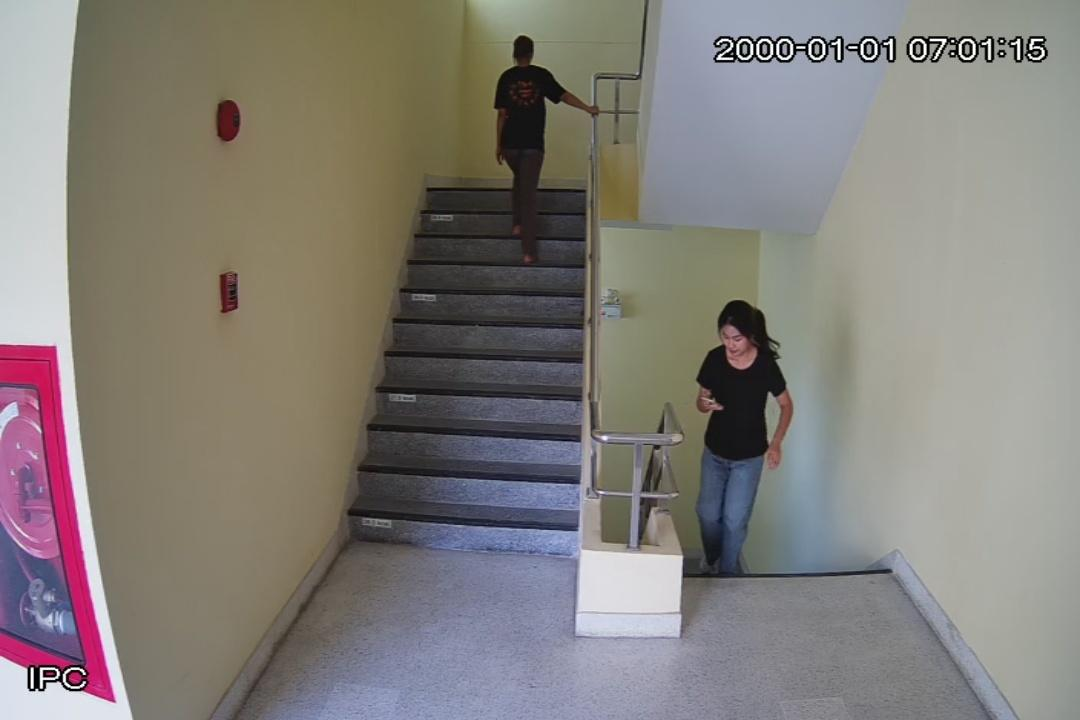normal: (692, 292, 798, 584), (494, 18, 601, 270)
